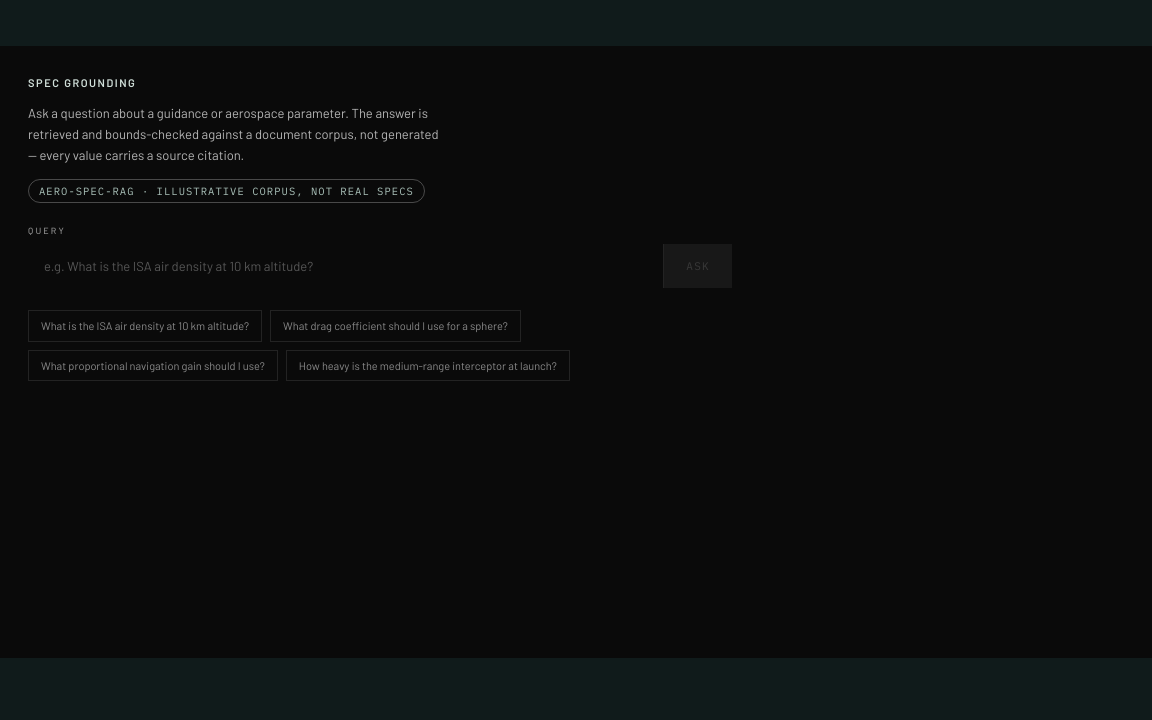
Test case: SpecGroundingPanel › renders an unverified result without a value or crashing
Type "What colour is the interceptor painted?" into the field labelled "QUERY" at (346, 266), box [28,244,663,288]
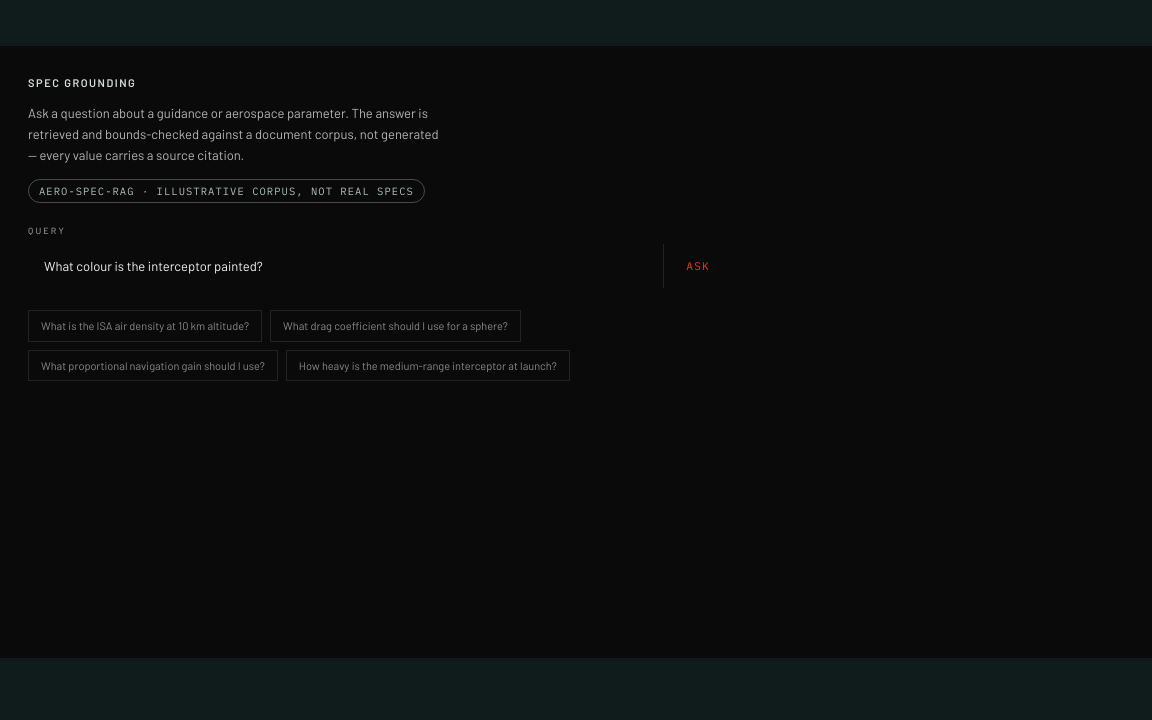
Click the button "ASK" at (698, 266), box [664,244,732,288]
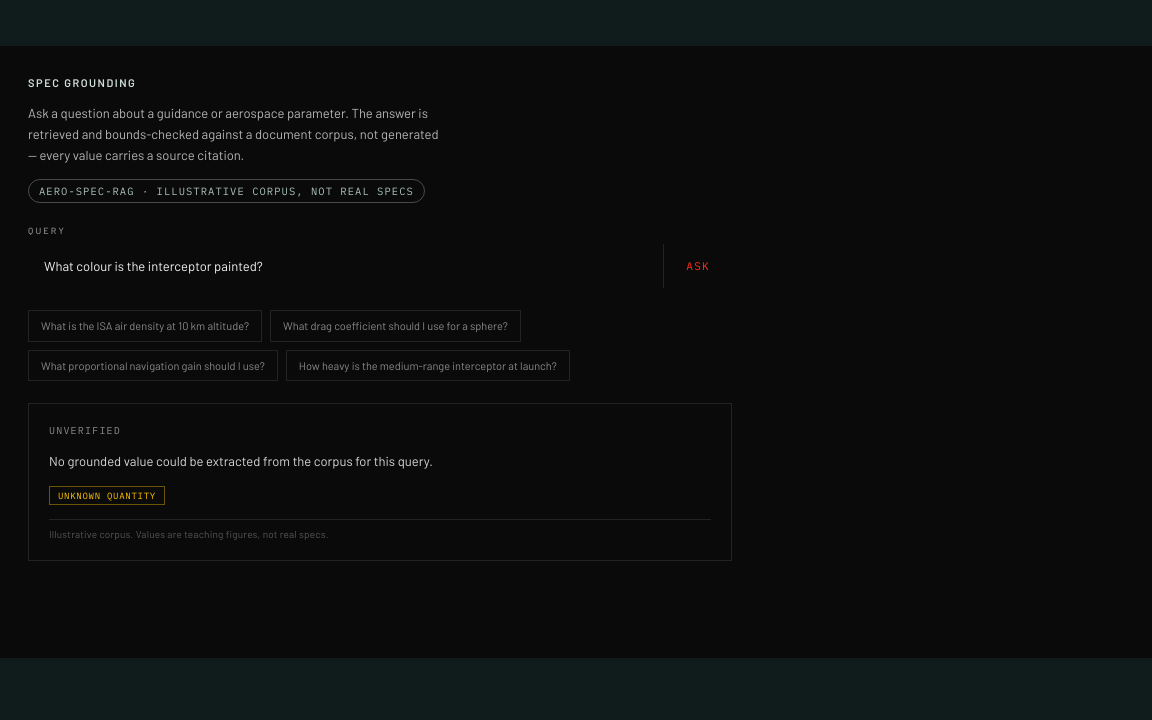
Result: the text "UNVERIFIED" is shown at [49,424,121,437]
